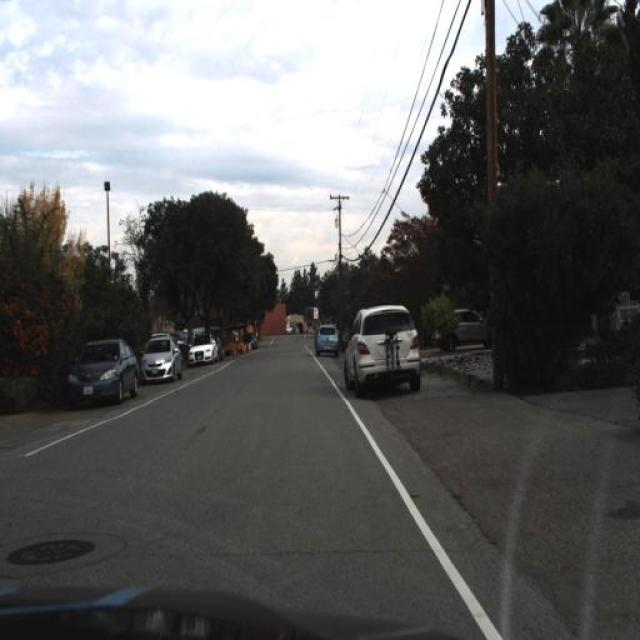car: (342, 307, 413, 383), (72, 344, 137, 398), (433, 304, 492, 354), (138, 333, 184, 385), (434, 305, 482, 345), (144, 340, 182, 376), (186, 335, 220, 363), (313, 323, 339, 356)
